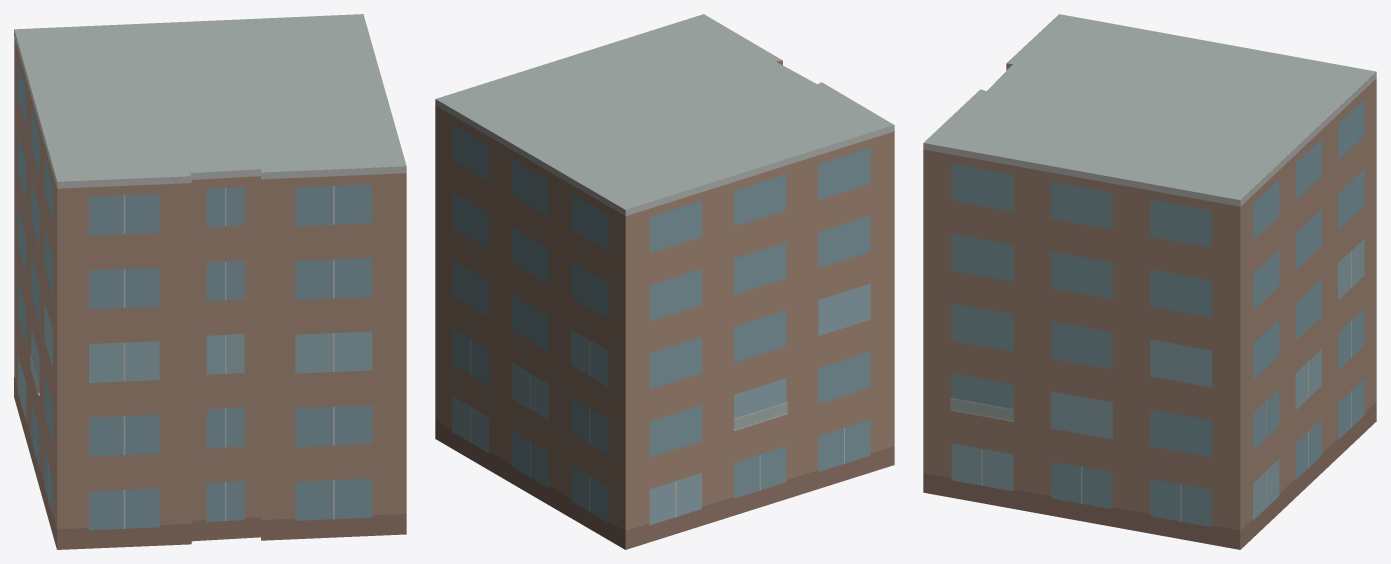
The model's file is survey-upis-33047094.glb.
3 renders of one model, left to right at view 1: azimuth 30°, elevation 25°; view 2: azimuth 150°, elevation 25°; view 3: azimuth 270°, elevation 25°, orthographic. The views are drawn at different scales.
Parts seen in each view (by area): view 1: survey-upis-33047094.tmp; view 2: survey-upis-33047094.tmp; view 3: survey-upis-33047094.tmp.
Part boxes in pixels (x1,y1,x2,y2): survey-upis-33047094.tmp: (14,14,406,549); survey-upis-33047094.tmp: (435,14,894,549); survey-upis-33047094.tmp: (923,14,1376,549).
Bounding box in the file's own units: 14.97 × 13.1 × 15.4.
